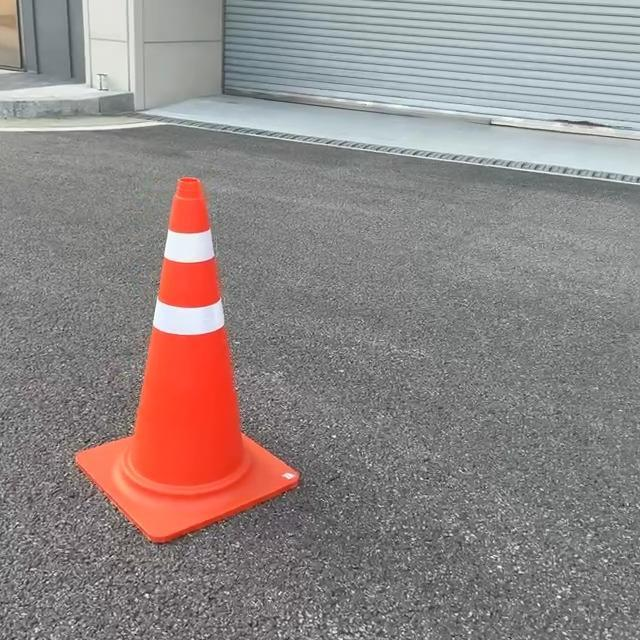fallen_object: (20, 99, 348, 601)
